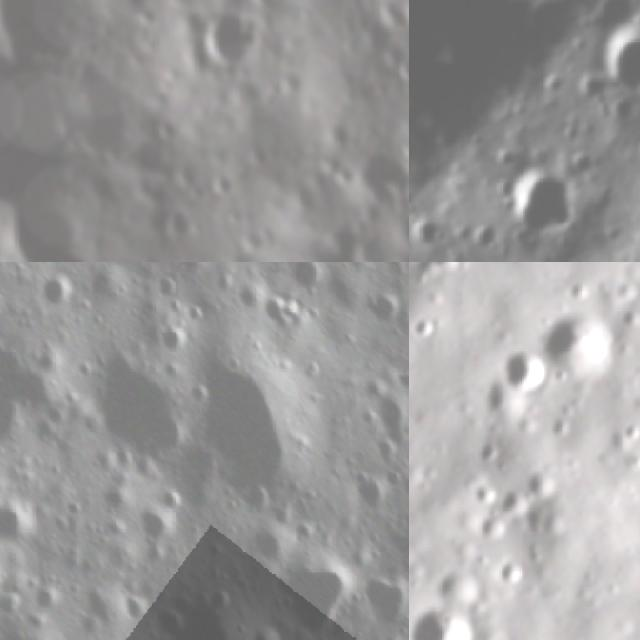crater: (191, 337, 324, 497), (91, 348, 196, 463), (524, 301, 627, 402), (266, 546, 361, 638), (147, 578, 260, 640), (493, 164, 574, 246), (415, 549, 493, 626), (482, 341, 554, 412), (13, 353, 71, 426), (409, 591, 488, 640), (192, 7, 250, 66), (482, 480, 540, 538), (359, 570, 409, 636), (599, 23, 640, 101), (263, 285, 307, 345), (458, 508, 510, 558), (361, 283, 406, 336), (134, 501, 178, 552), (245, 521, 288, 572), (484, 552, 530, 598), (0, 496, 39, 547), (386, 506, 409, 587), (348, 474, 388, 514), (154, 324, 196, 360), (409, 213, 448, 251), (234, 479, 274, 516), (116, 587, 156, 624), (165, 150, 202, 186), (148, 270, 184, 306), (576, 70, 608, 110), (289, 262, 331, 292), (409, 310, 442, 347), (30, 579, 64, 614), (469, 217, 498, 257), (284, 176, 318, 207), (157, 200, 186, 236), (234, 229, 270, 256), (0, 588, 24, 621), (103, 262, 152, 278), (239, 141, 268, 167), (246, 625, 289, 640), (389, 51, 409, 82), (371, 0, 392, 20)
